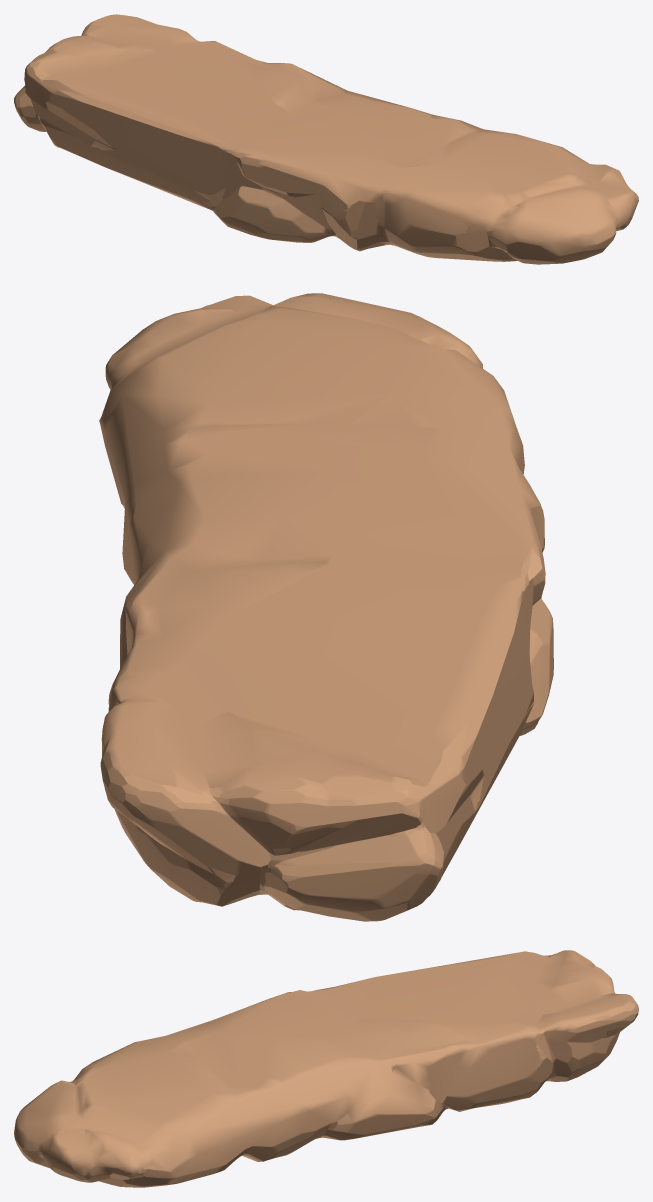
3 views of the same model, one above another, from view 1: azimuth 30°, elevation 25°; view 2: azimuth 150°, elevation 25°; view 3: azimuth 270°, elevation 25° (orthographic). The views are drawn at different scales.
Visible parts, largest first — view 1: Mesh_61_LOD0; view 2: Mesh_61_LOD0; view 3: Mesh_61_LOD0.
Part boxes in pixels (x1,y1,x2,y2): Mesh_61_LOD0: (14,14,638,264); Mesh_61_LOD0: (99,293,553,921); Mesh_61_LOD0: (14,950,638,1187).
Size of what is drawn, in the model's own units: 2654 by 621 by 3719.
